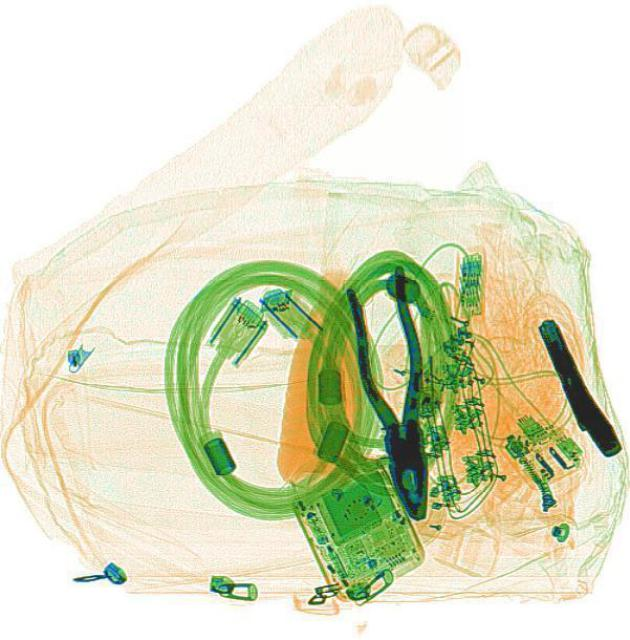Gun: (528, 313, 624, 467)
Pliers: (340, 262, 450, 524)
